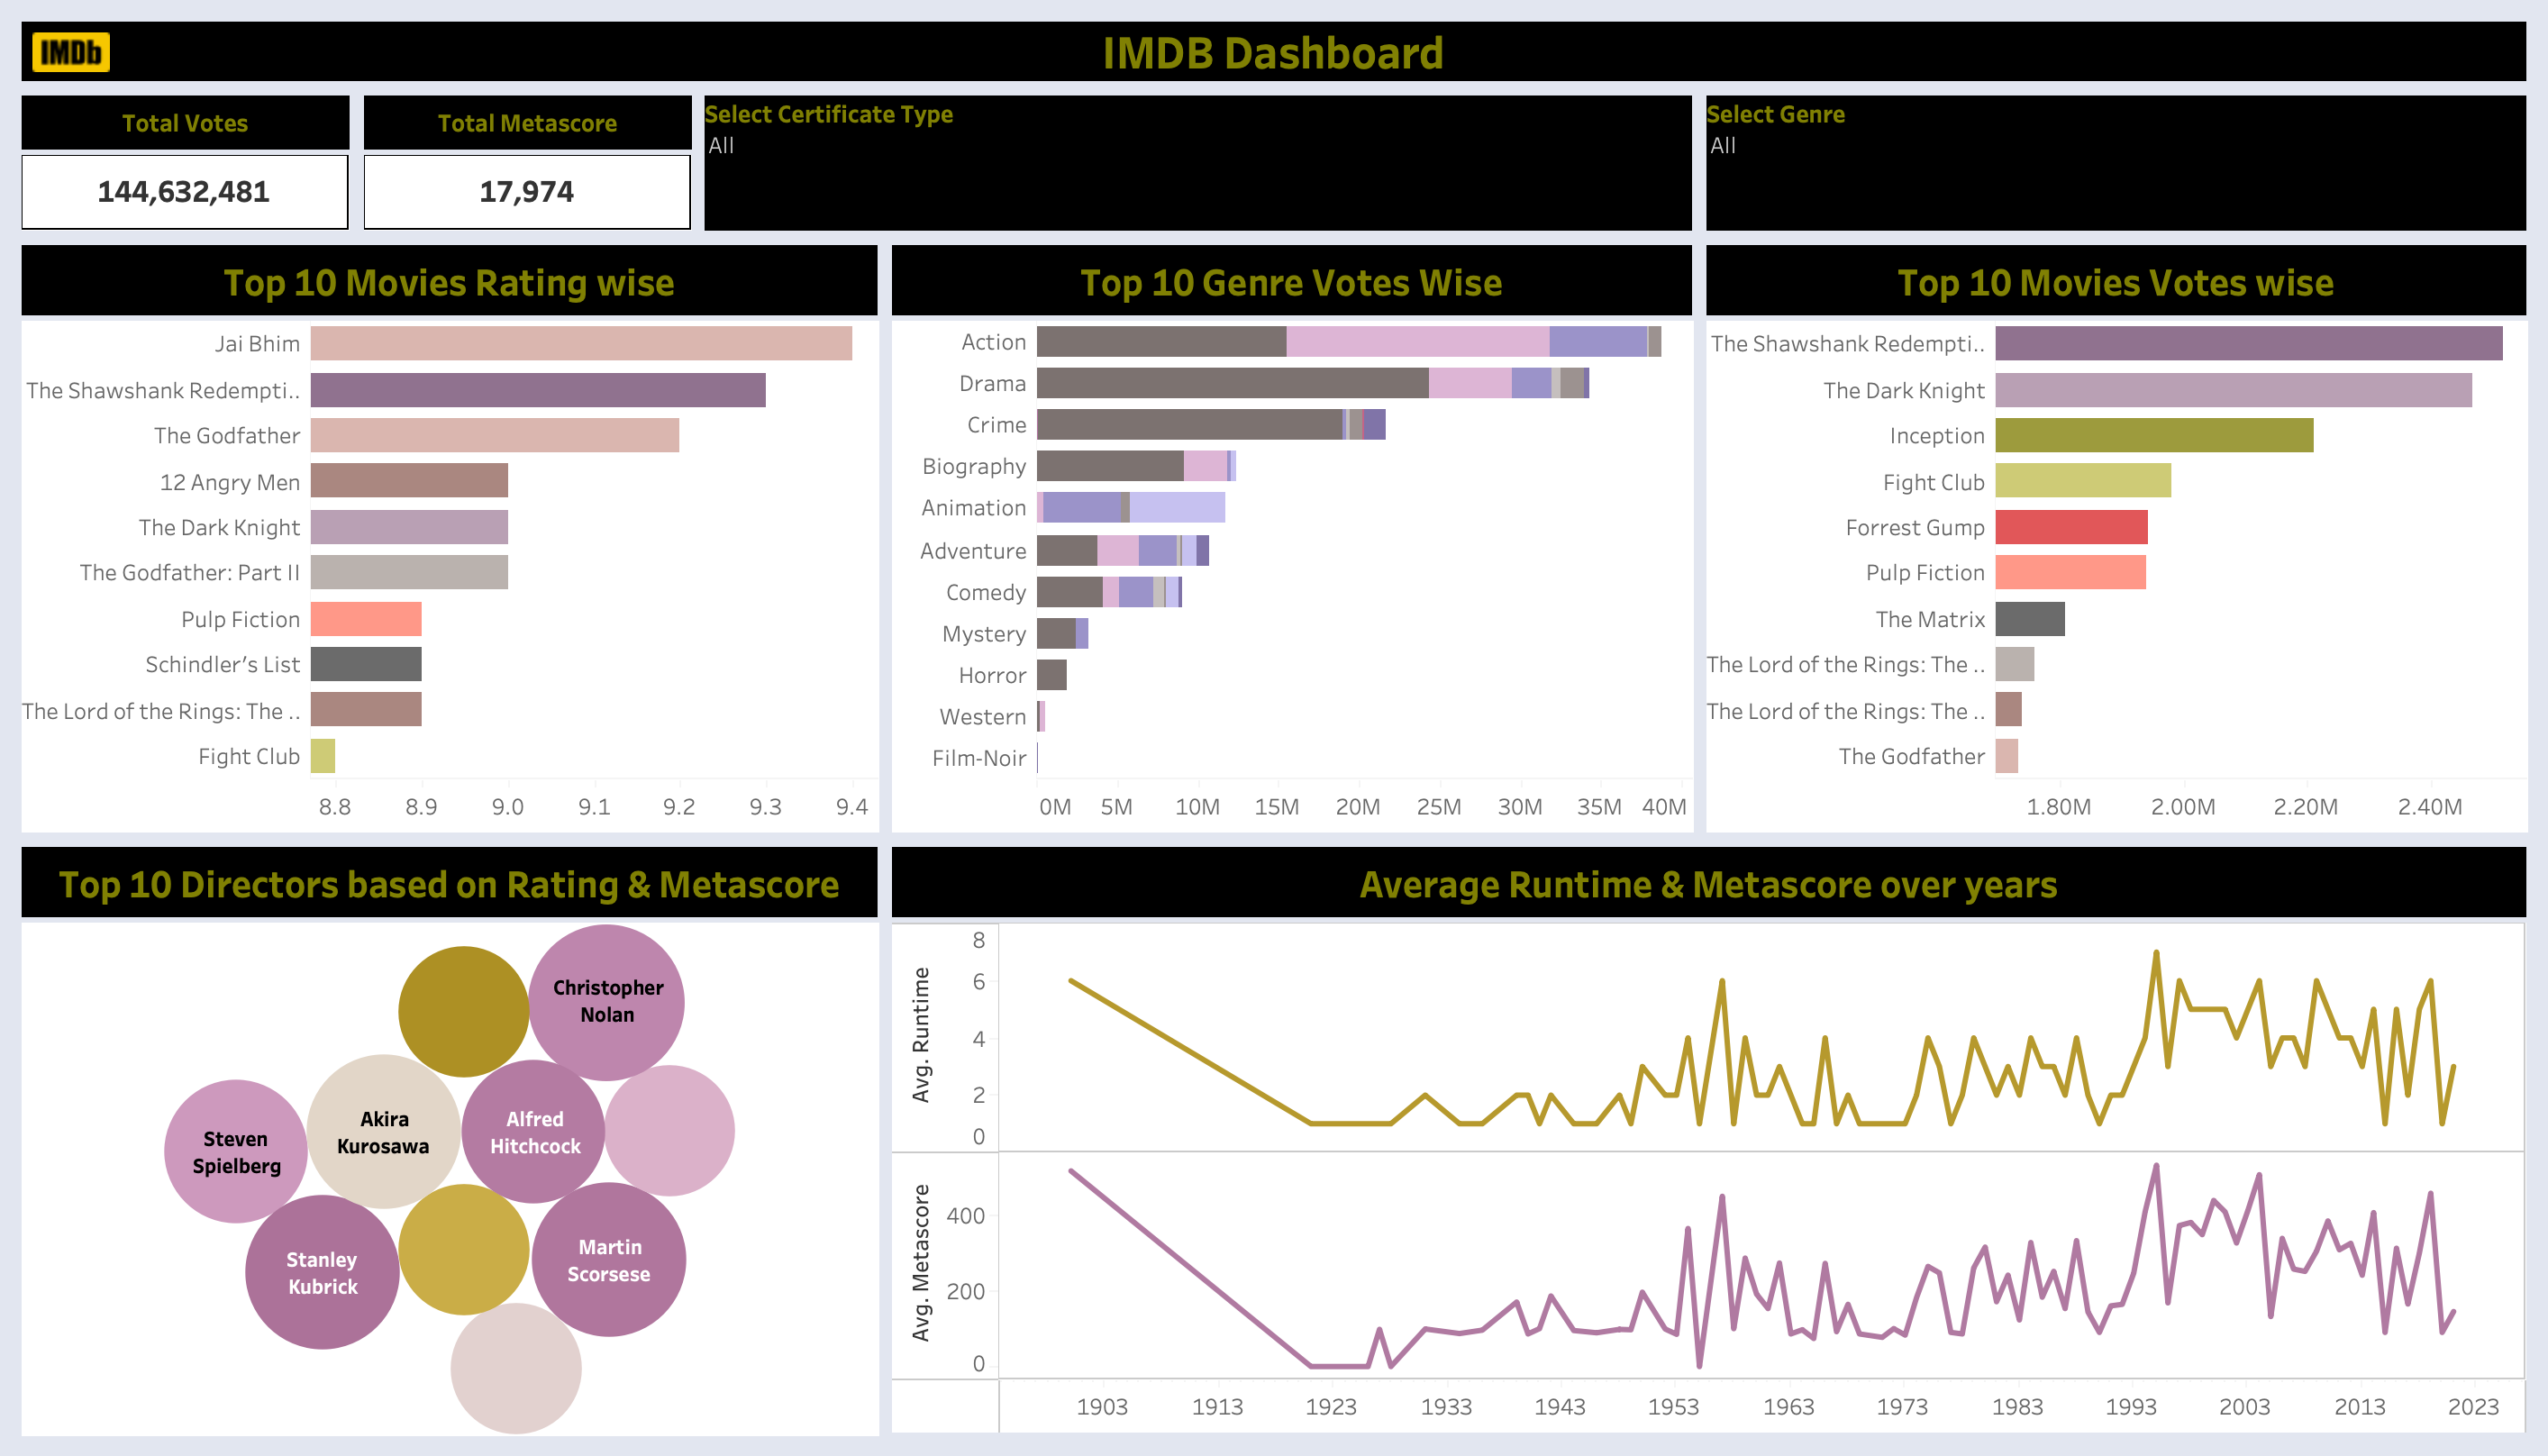

What the dashboard file says about the page in this screenshot:
{"tool":"tableau","page":{"name":"Dashboard 1","canvas":[1000,1000],"units":"permille","ordinal":0},"visuals":[{"type":"title","box":[6.6,11.8,854.9,60.4]},{"type":"legend","title":"Top 10 Directors based on Rating & Metascore ","param":"[federated.042ixiz1lxfhb8149wk3x1kzmaxn].[sum:metascore:qk]","box":[861.5,11.8,131.9,95.7]},{"type":"image","param":"/Users/prachisawant/Desktop/IMDB.png","box":[15.7,25,51.9,32.4]},{"type":"worksheet","title":"Sheet 7","mark":"Automatic","box":[6.6,72.2,116,101.8]},{"type":"worksheet","title":"Sheet 8","mark":"Automatic","box":[122.6,72.2,116.1,101.8]},{"type":"filter","title":"Top 10 Movies Rating wise","param":"[federated.042ixiz1lxfhb8149wk3x1kzmaxn].[none:certificate:nk]","box":[238.7,72.2,340,101.8]},{"type":"filter","title":"Top 10 Movies Rating wise","param":"[federated.042ixiz1lxfhb8149wk3x1kzmaxn].[none:genre - Split 1:nk]","box":[578.6,72.2,282.9,101.8]},{"type":"worksheet","title":"Top 10 Movies Rating wise","mark":"Automatic","rows":["movie name "],"cols":["RATING"],"box":[6.6,173.9,295.3,407.1]},{"type":"worksheet","title":"Top 10 Genre Votes Wise","mark":"Automatic","rows":["genre - Split 1"],"cols":["votes"],"box":[301.9,173.9,276.4,407.1]},{"type":"worksheet","title":"Top 10 Movies Votes wise","mark":"Automatic","rows":["movie name "],"cols":["votes"],"box":[578.3,173.9,283.2,407.1]},{"type":"worksheet","title":"Top 10 Directors based on Rating & Metascore ","mark":"Circle","box":[6.6,581.1,295.1,407.2]},{"type":"worksheet","title":"Average Runtime & Metascore over years","mark":"Automatic","rows":["runtime","metascore"],"cols":["Year"],"box":[301.7,581.1,559.8,407.2]}]}

Visuals, with their boxes on the dashboard's canvas, which has no fixed pixel size, in thousandths of its width and height (x1, y1, x2, y2). These are canvas units, not pixel positions in the 2548x1456 screenshot, which may show the page scaled, cropped or inside an application window:
title: 7:12:862:72
"Top 10 Directors based on Rating & Metascore " legend: 862:12:993:108
image: 16:25:68:57
"Sheet 7" worksheet: 7:72:123:174
"Sheet 8" worksheet: 123:72:239:174
"Top 10 Movies Rating wise" filter: 239:72:579:174
"Top 10 Movies Rating wise" filter: 579:72:862:174
"Top 10 Movies Rating wise" worksheet: 7:174:302:581
"Top 10 Genre Votes Wise" worksheet: 302:174:578:581
"Top 10 Movies Votes wise" worksheet: 578:174:862:581
"Top 10 Directors based on Rating & Metascore " worksheet (Circle marks): 7:581:302:988
"Average Runtime & Metascore over years" worksheet: 302:581:862:988
